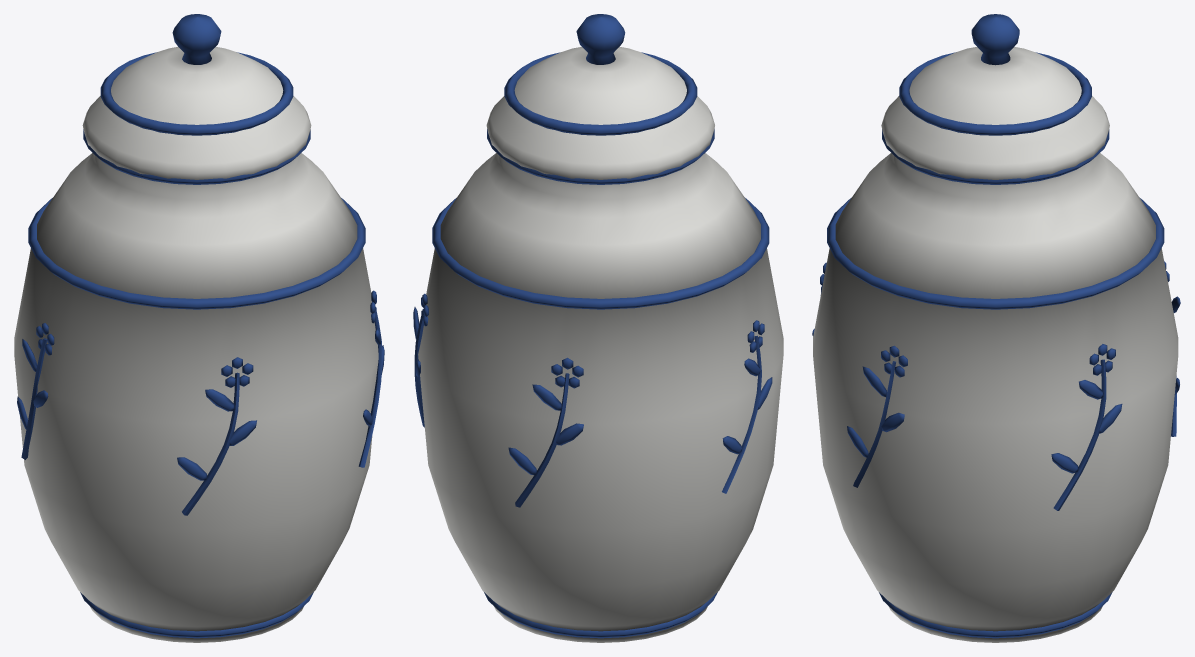
The model's file is urnPorcelain.glb.
3 renders of one model, left to right at view 1: azimuth 30°, elevation 25°; view 2: azimuth 150°, elevation 25°; view 3: azimuth 270°, elevation 25°, orthographic.
Visible parts, largest first — view 1: urnPorcelain; view 2: urnPorcelain; view 3: urnPorcelain.
Part boxes in pixels (x1,y1,x2,y2): urnPorcelain: [14, 14, 384, 642]; urnPorcelain: [413, 14, 783, 642]; urnPorcelain: [812, 14, 1180, 642].
Size of the model in its own units: 0.3632 by 0.626 by 0.3611.
